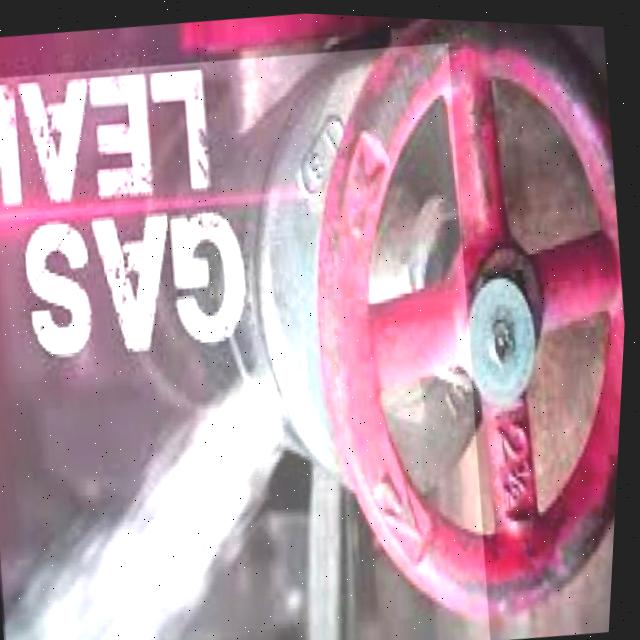corrosion: (3, 334, 367, 640)
